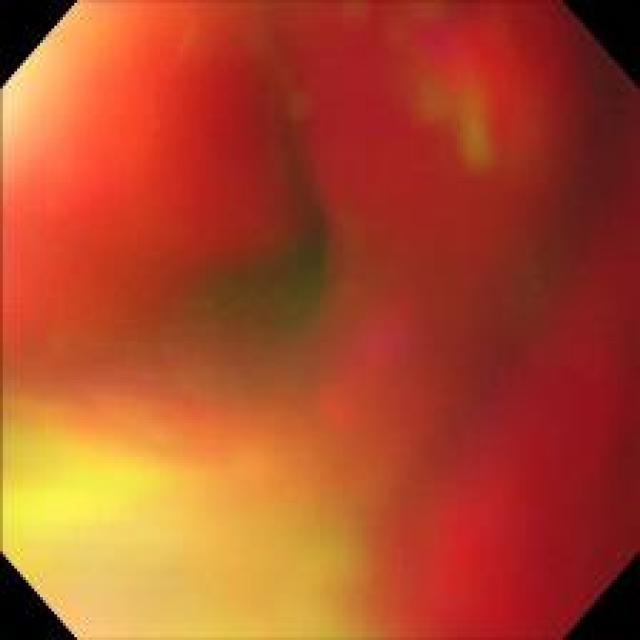color misalignment: (5, 4, 630, 634)
